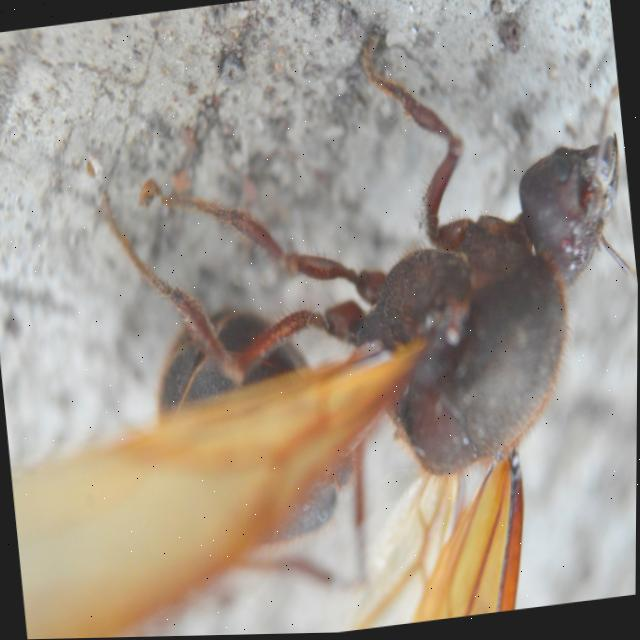Alive-Female-Alate: (0, 3, 640, 640)
